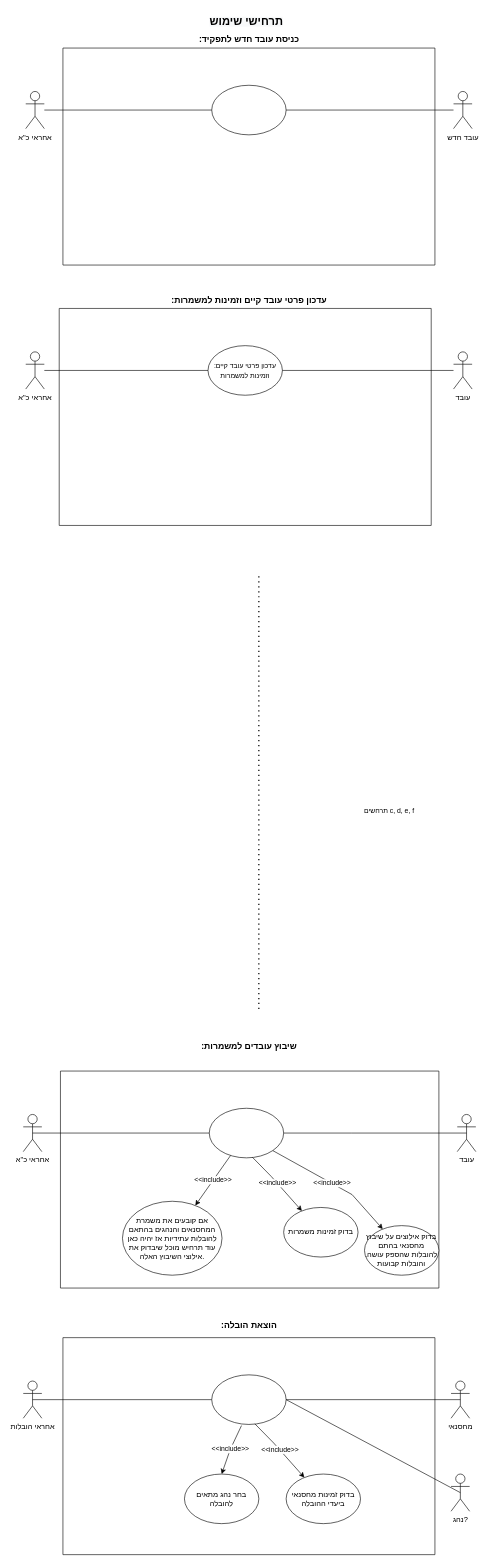
The diagram is 489 pixels wide and 1566 high, and some of its shapes have lost their labels. The centre of each missing label's shape, as x and y in pixels:
".שיבוץ עובדים למשמרות" belongs at point 246,1133.
"הוצאת הובלה" belongs at point 248,1399.
"רישום עובד חדש בחברה" belongs at point 248,110.
